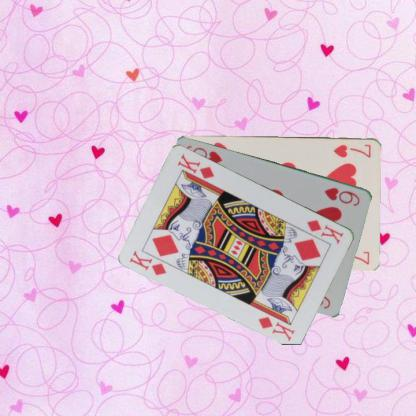6h: (322, 184, 362, 208)
7h: (331, 141, 373, 159)
Kd: (304, 216, 345, 246), (127, 248, 168, 277)
